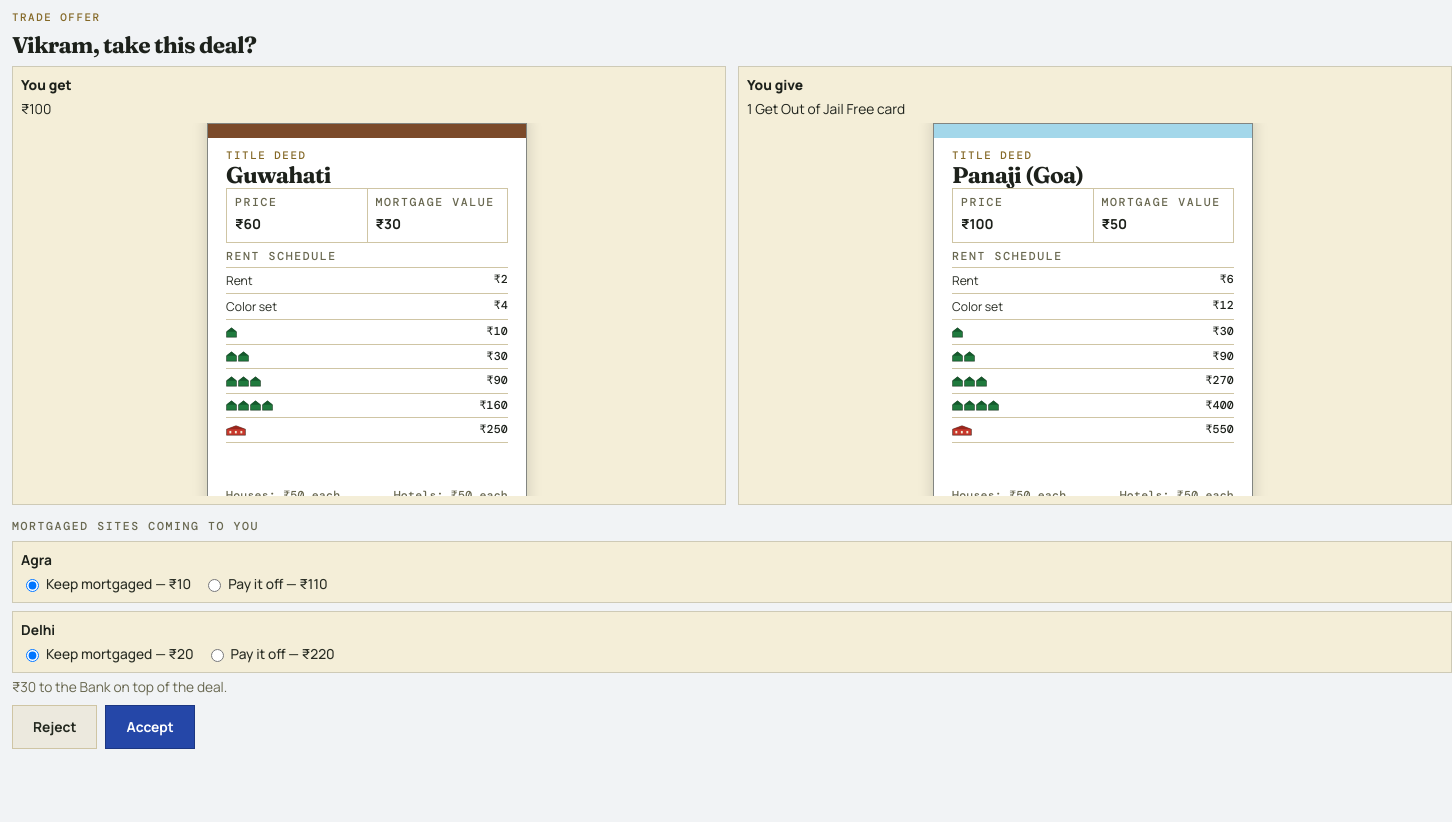
Test case: mortgaged sites in an offer › adds up what the chosen options cost
Click the radio button labelled "Pay it off — ₹110".
click(215, 586)  # box [208, 579, 221, 592]
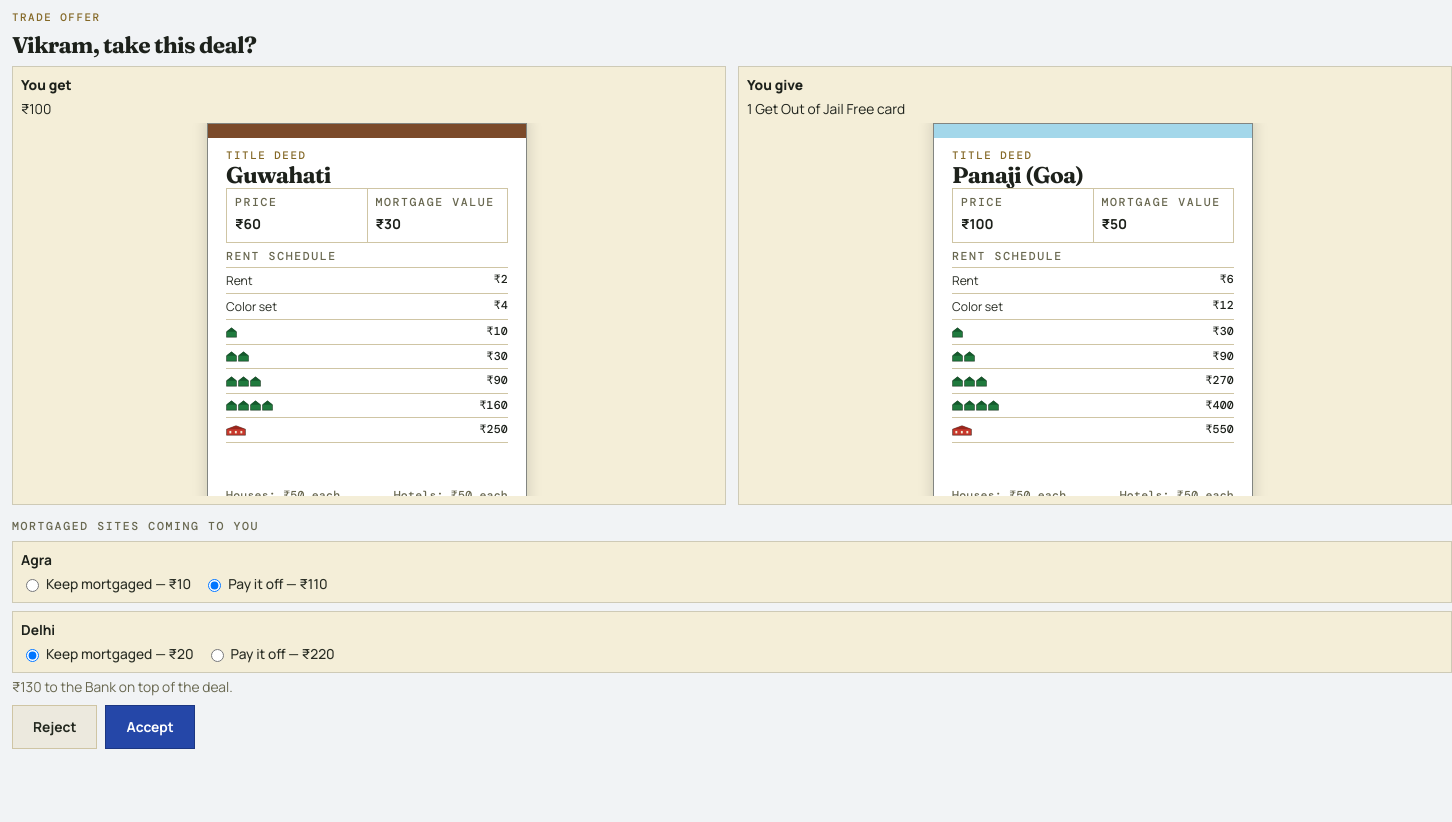
Expected: the text with test id "trade-mortgage-total" shows "₹130", [12, 677, 42, 696]
